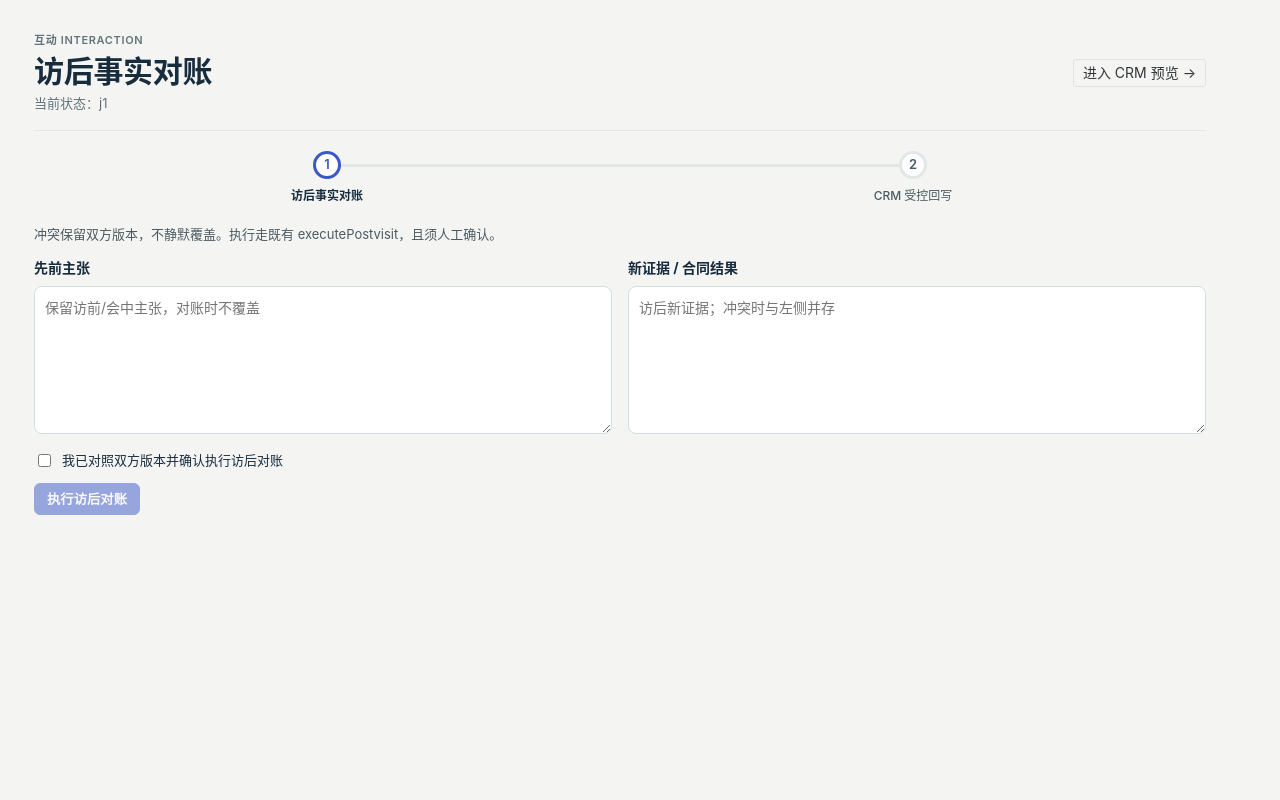
Test: P18 PostvisitReconcileView › enters successfully and keeps both versions after executePostvisit
Expected: the element with test id "p18-postvisit" shows "事实对账", [34,52,212,88]
Expected: the element with test id "p18-previous-claim" is shown, [34,257,612,439]
Type "访前主张：授信仅作讨论" into the text box with test id "p18-previous-input" at (323, 360), box [34,286,612,434]
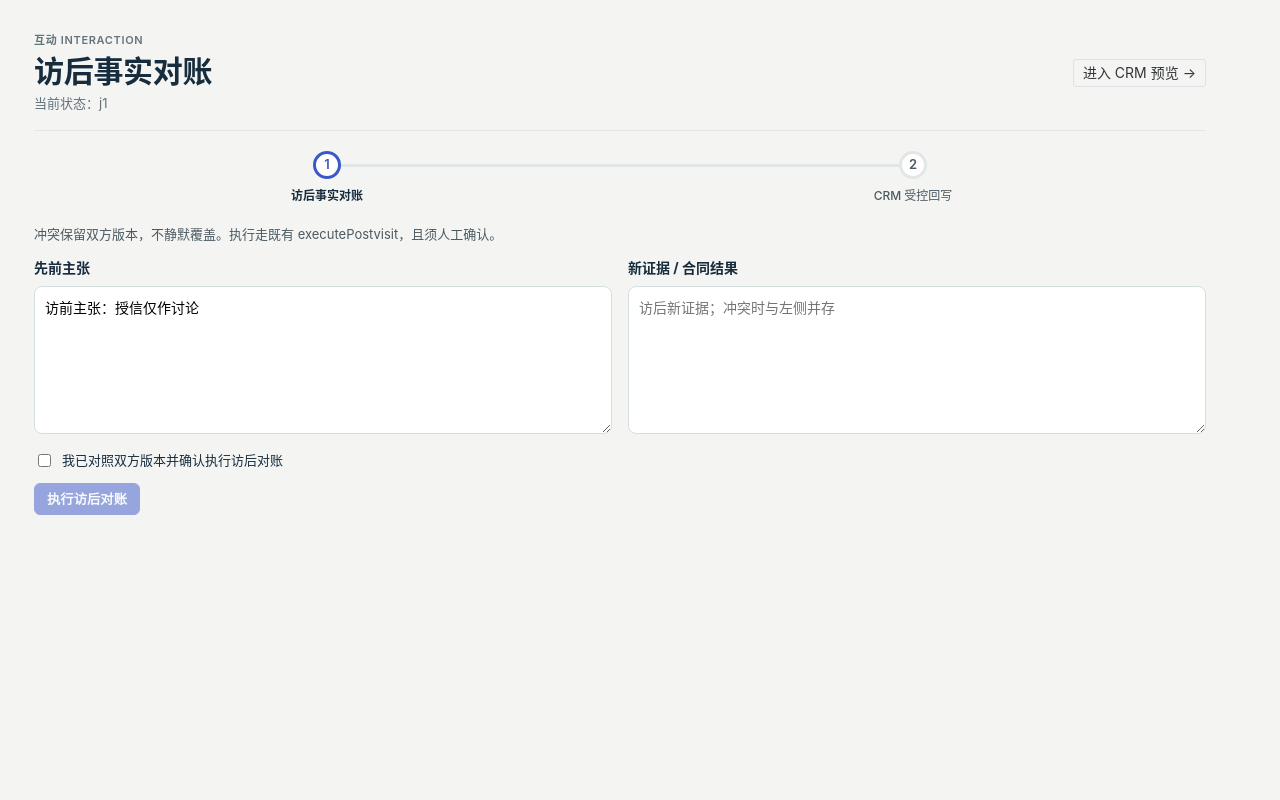
Click the checkbox with test id "p18-confirm" at (44, 461), box [38,454,51,467]
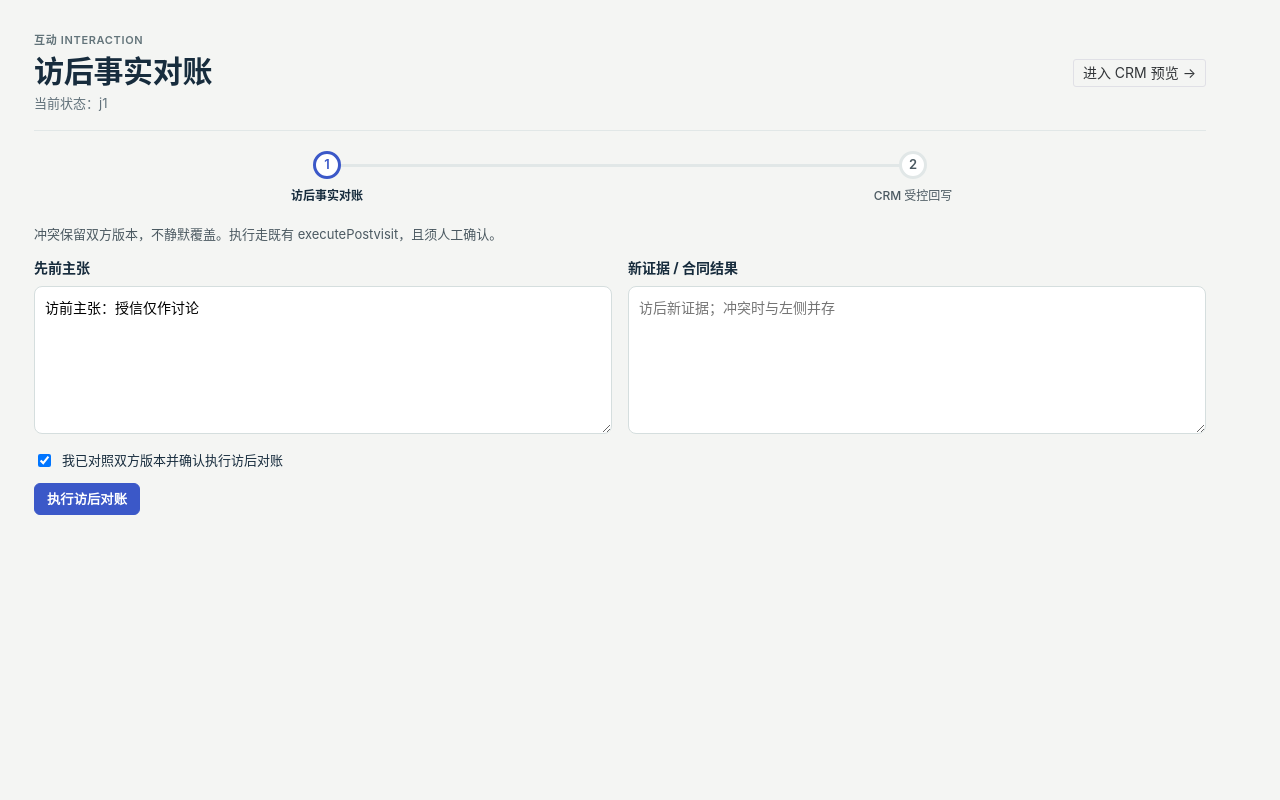
Click the button with test id "p18-execute" at (87, 498), box [34,482,140,514]
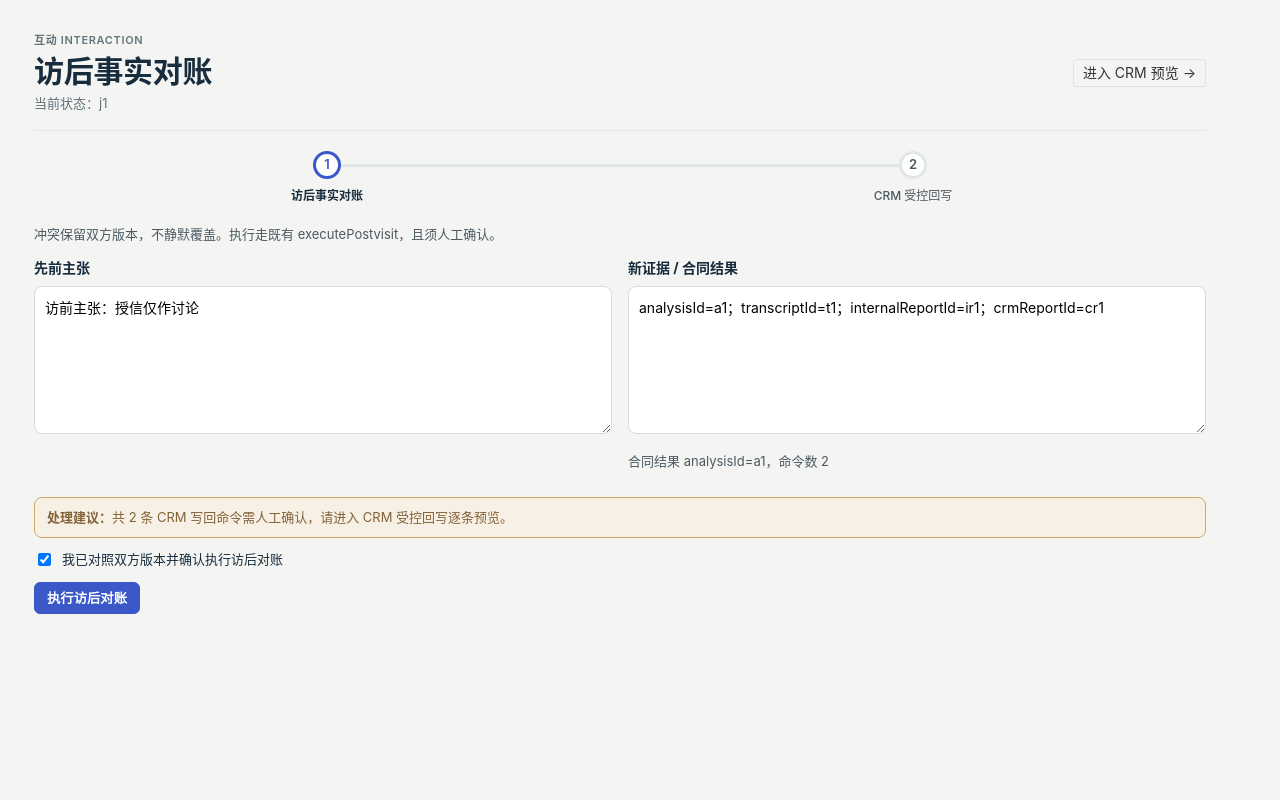
Expected: the element with test id "p18-new-evidence" shows "a1", [628,453,829,469]
